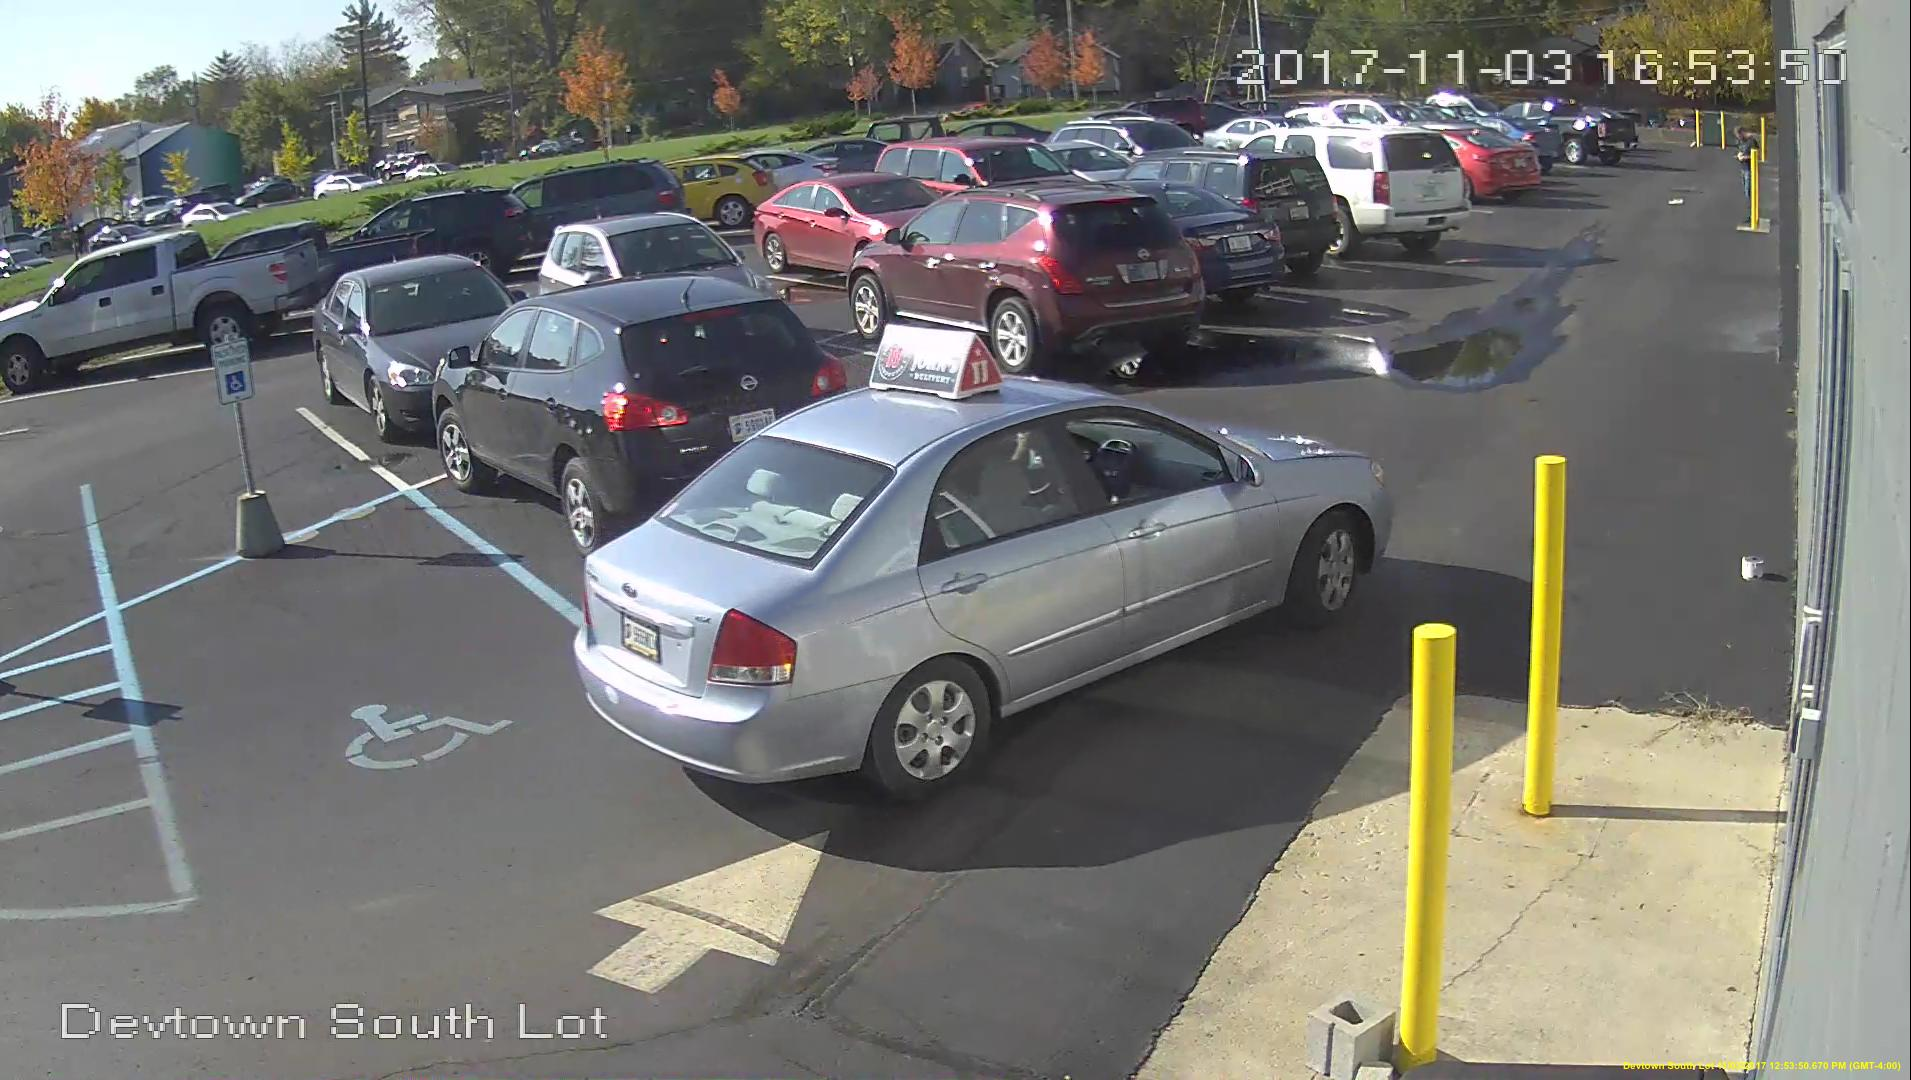jimmy_johns: (862, 318, 1009, 404)
